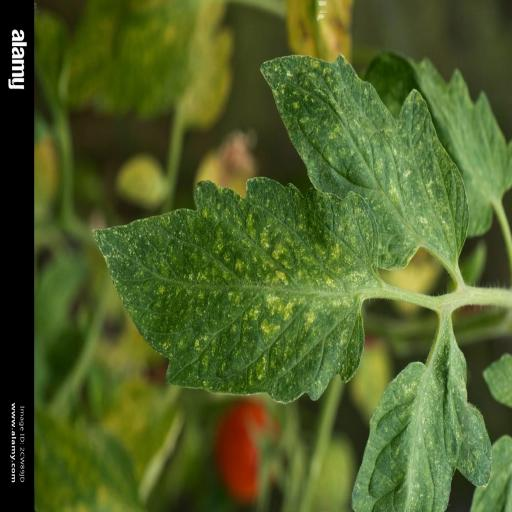disease_tomato: (89, 173, 380, 405), (258, 54, 468, 272), (349, 333, 491, 512)
